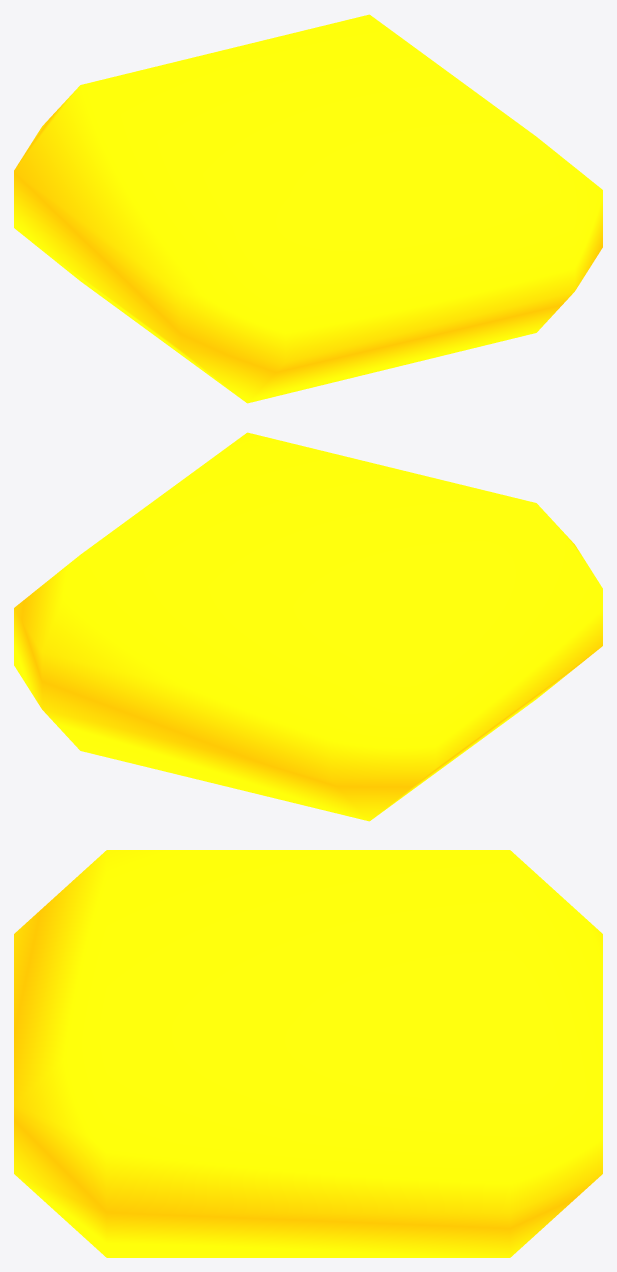
File: 01_yard_medium_aegis.glb
3 renders of one model, top to bottom at view 1: azimuth 30°, elevation 25°; view 2: azimuth 150°, elevation 25°; view 3: azimuth 270°, elevation 25°, orthographic. The views are drawn at different scales.
Parts seen in each view (by area): view 1: 01_yard_medium_aegis; view 2: 01_yard_medium_aegis; view 3: 01_yard_medium_aegis.
Boxes of the visible parts, bbox=[...] form: 01_yard_medium_aegis: bbox=[14, 14, 602, 403]; 01_yard_medium_aegis: bbox=[14, 432, 602, 821]; 01_yard_medium_aegis: bbox=[14, 850, 602, 1257].
Size of the model in its own units: 1.03 by 0.4589 by 1.03.
